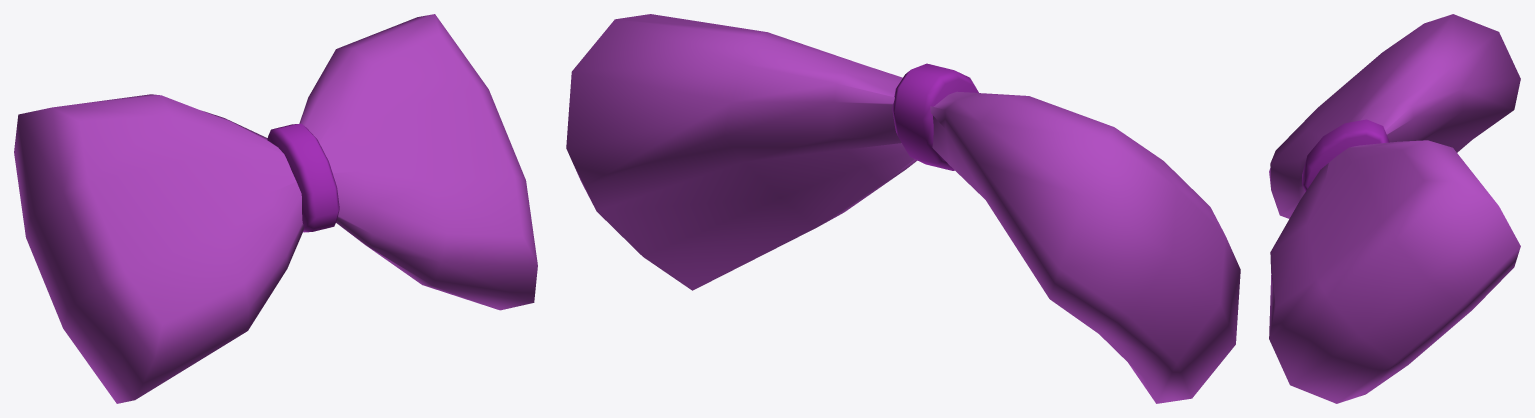
File: hairclip.fbx
3 views of the same model, side by side, from view 1: azimuth 30°, elevation 25°; view 2: azimuth 150°, elevation 25°; view 3: azimuth 270°, elevation 25° (orthographic). The views are drawn at different scales.
Parts seen in each view (by area): view 1: hairclip; view 2: hairclip; view 3: hairclip.
Part boxes in pixels (x1,y1,x2,y2): hairclip: (14,14,537,403); hairclip: (566,14,1240,403); hairclip: (1269,14,1520,403).
Bounding box in the file's own units: 145 × 75.75 × 77.66.
